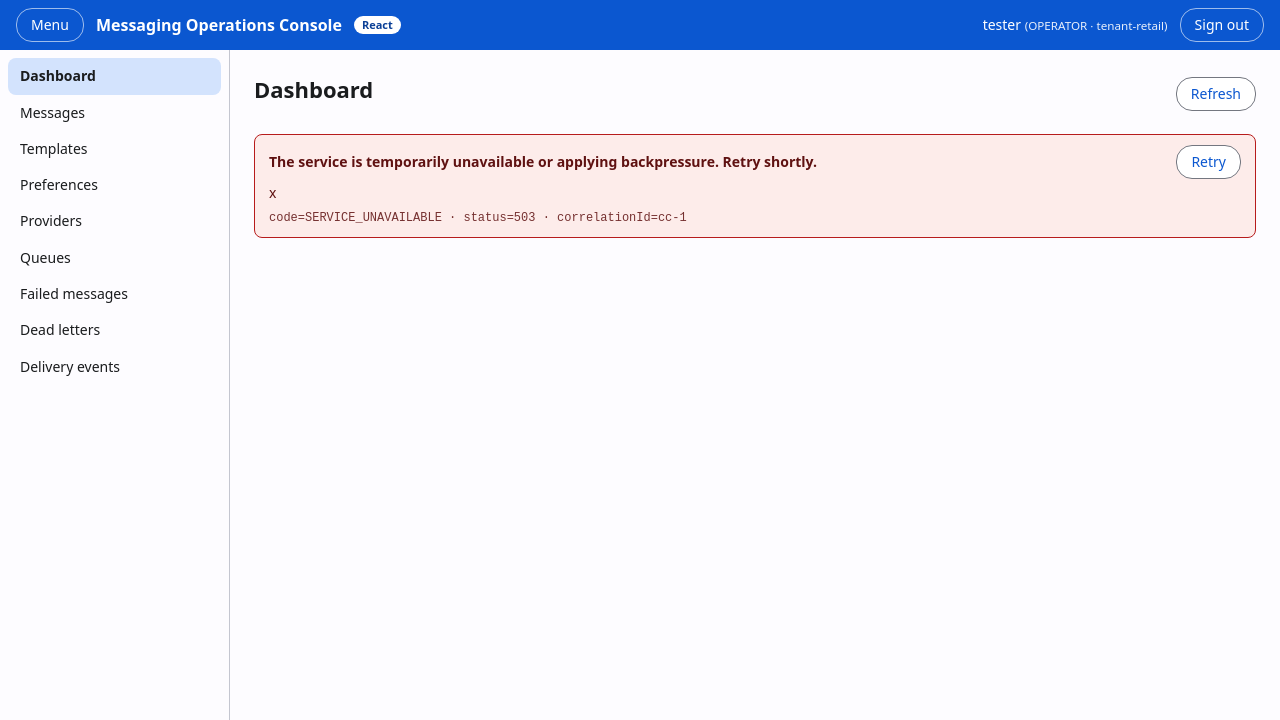
Test: dashboard › shows the error banner with a retry that recovers
The width and height of the screenshot is (1280, 720).
Check: the message shows "temporarily unavailable", box [269,152,817,171]
Check: the message shows "correlationId=cc-1", box [536,211,687,225]
Click the button "Retry".
click(1209, 162)  # box [1176,145,1241,180]
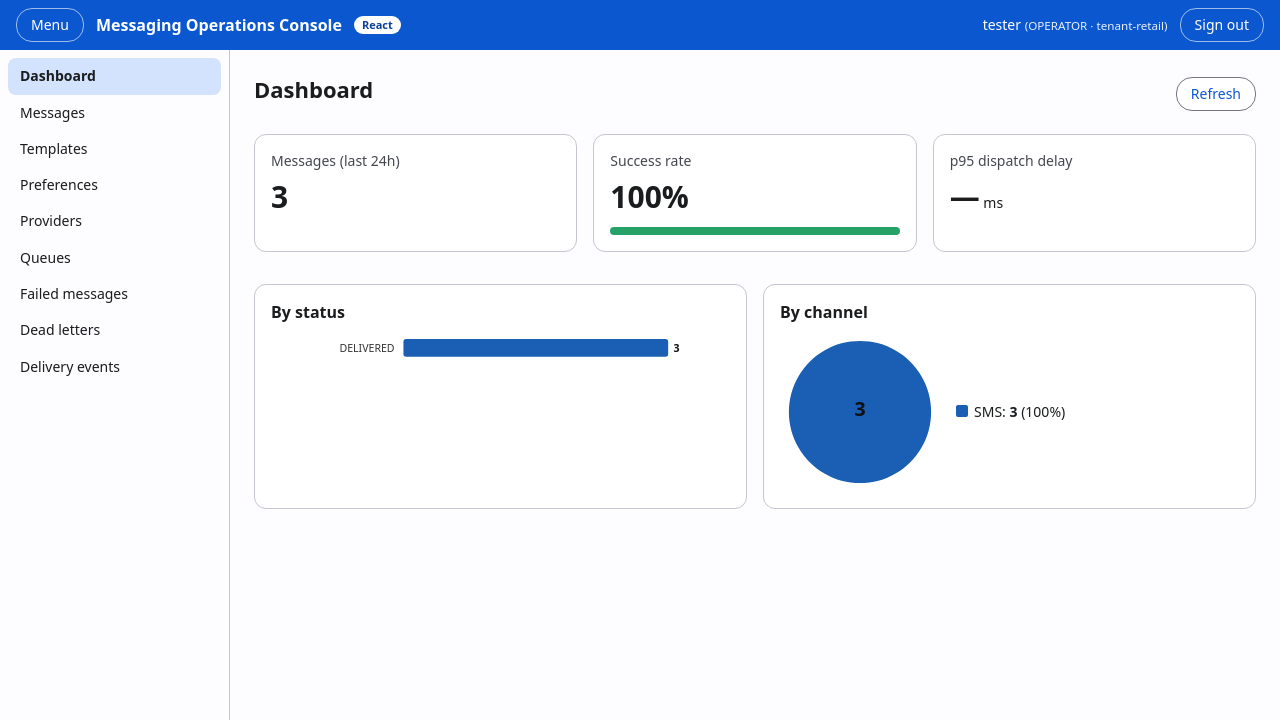
Check: the element named "Total messages" shows "3", box [271,176,288,218]
